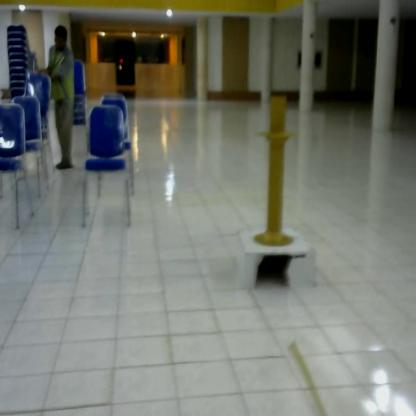pole: (247, 87, 308, 249)
